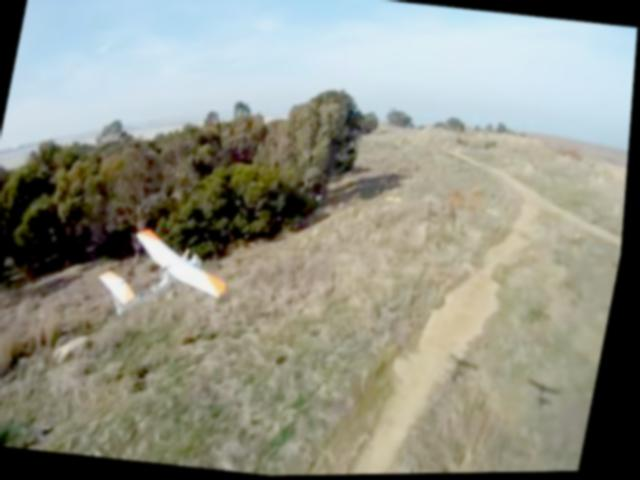uav: (90, 215, 248, 339)
